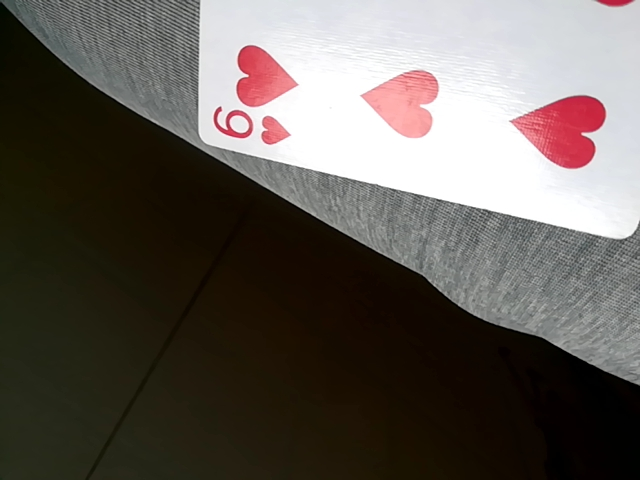hx 6: (185, 2, 637, 245)
